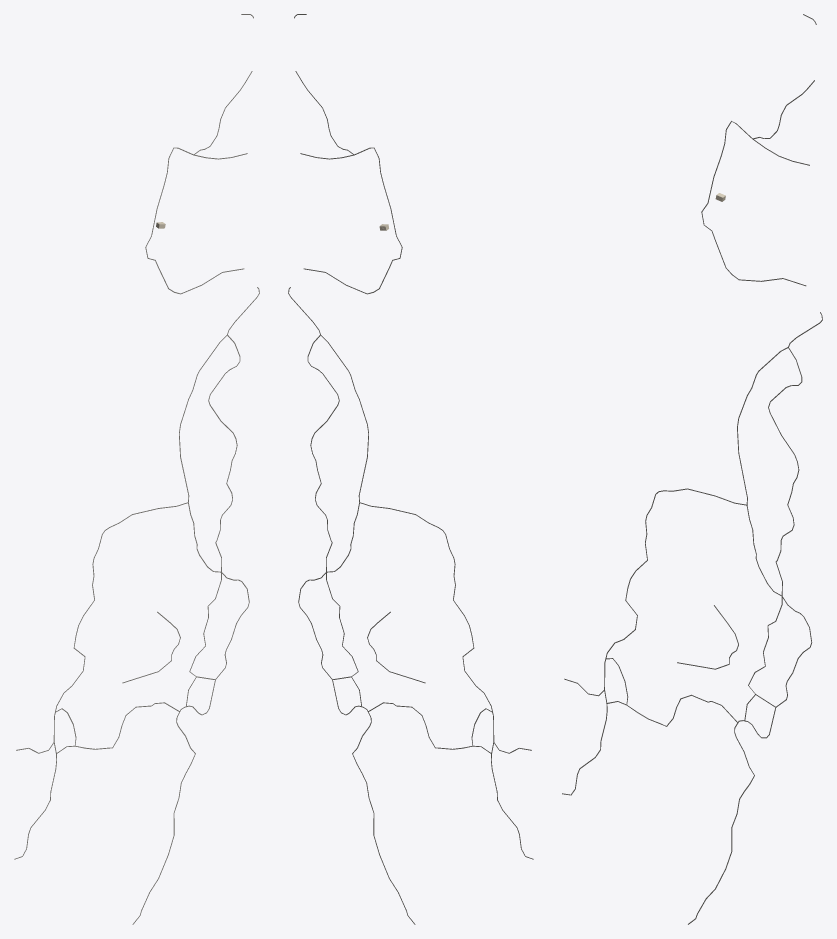
File: historic-palestine-06_28_3481_3222.glb
The picture shows the model from 3 angles, left to right: view 1: azimuth 30°, elevation 25°; view 2: azimuth 150°, elevation 25°; view 3: azimuth 330°, elevation 25°; orthographic projection. The views are drawn at different scales.
Visible parts, largest first — view 1: Road שביל האירוסים.002, Road .001; view 2: Road שביל האירוסים.002, Road .001; view 3: Road שביל האירוסים.002, Road .001.
Part boxes in pixels (x1=…): Road שביל האירוסים.002: x1=132, y1=555, x2=249, y2=924; Road .001: x1=14, y1=502, x2=187, y2=859; Road שביל האירוסים.002: x1=298, y1=555, x2=415, y2=924; Road .001: x1=360, y1=502, x2=533, y2=859; Road שביל האירוסים.002: x1=688, y1=567, x2=812, y2=924; Road .001: x1=562, y1=488, x2=746, y2=795.
Bounding box in the file's own units: 374 × 1285 × 8.7.
